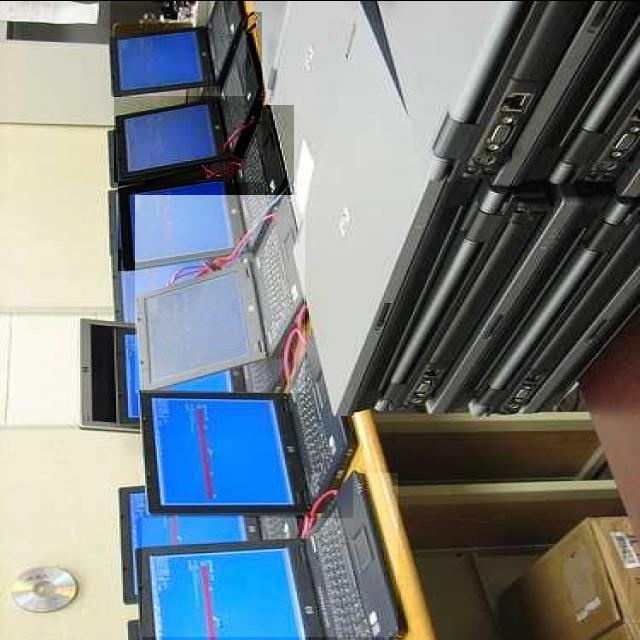-keyboard-: (142, 473, 398, 638), (141, 340, 353, 518), (136, 195, 306, 393), (118, 106, 294, 272), (115, 12, 262, 182), (110, 0, 246, 96)
